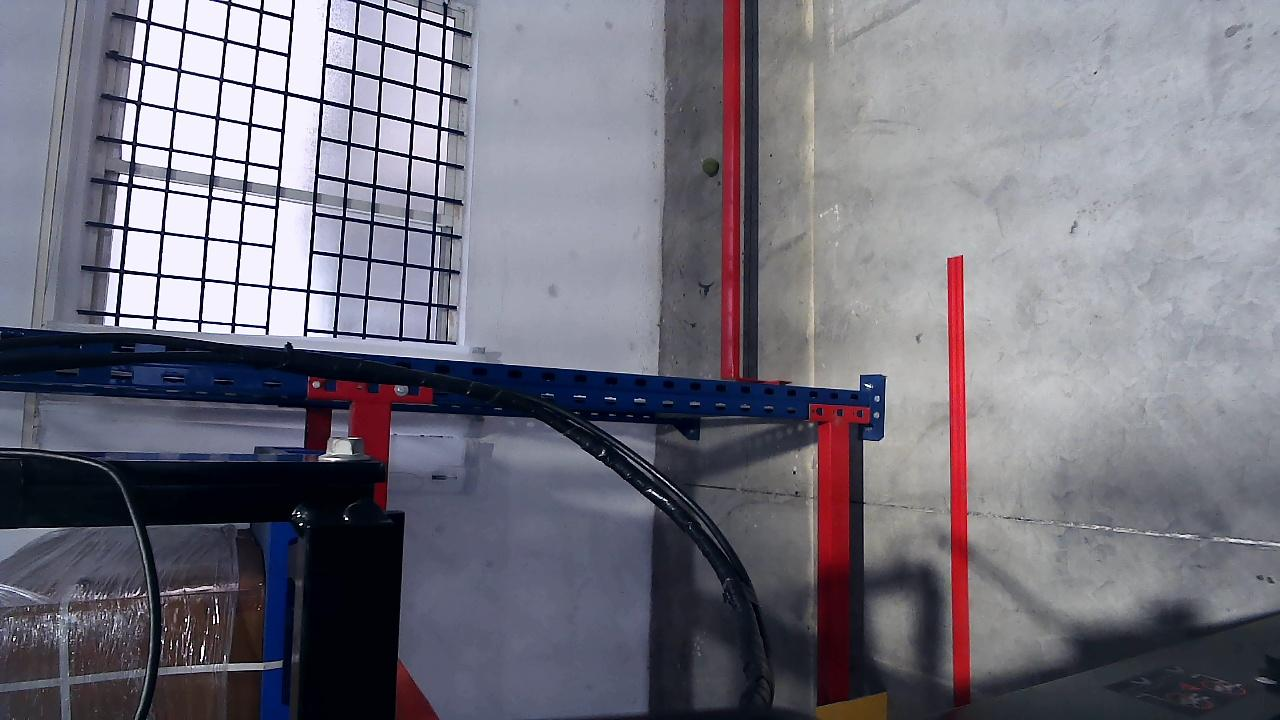h_rack: (819, 420, 856, 717)
orange_strip: (813, 692, 887, 719)
red_line: (948, 251, 970, 692)
